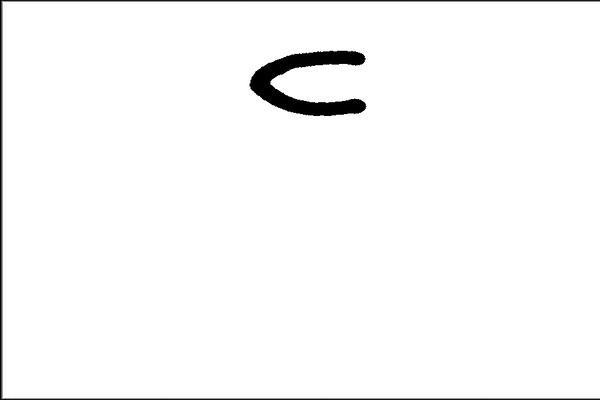C: (242, 46, 373, 123)
